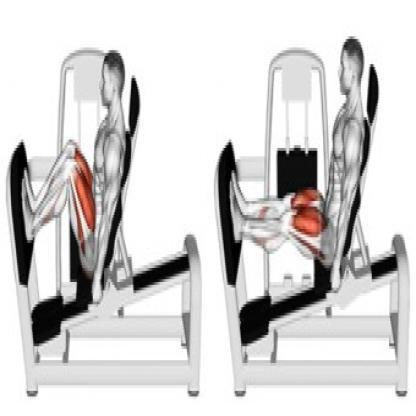leg press: (209, 18, 416, 416), (3, 20, 206, 416)
